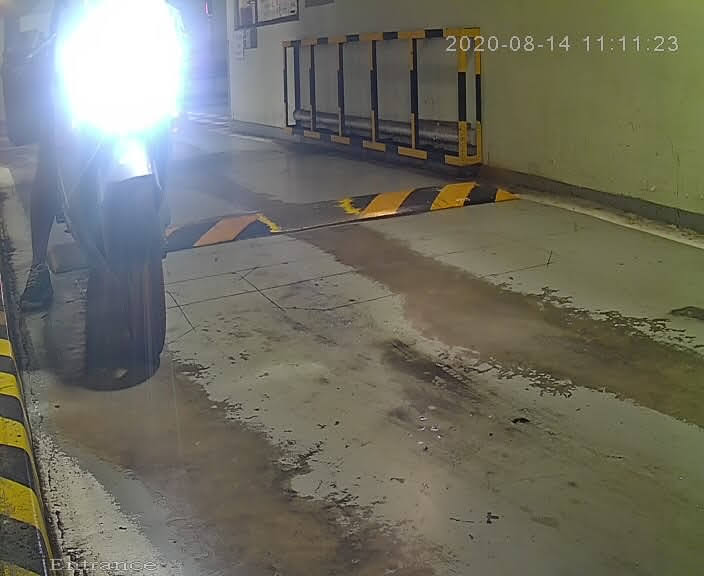motorcycle: (13, 1, 193, 386)
